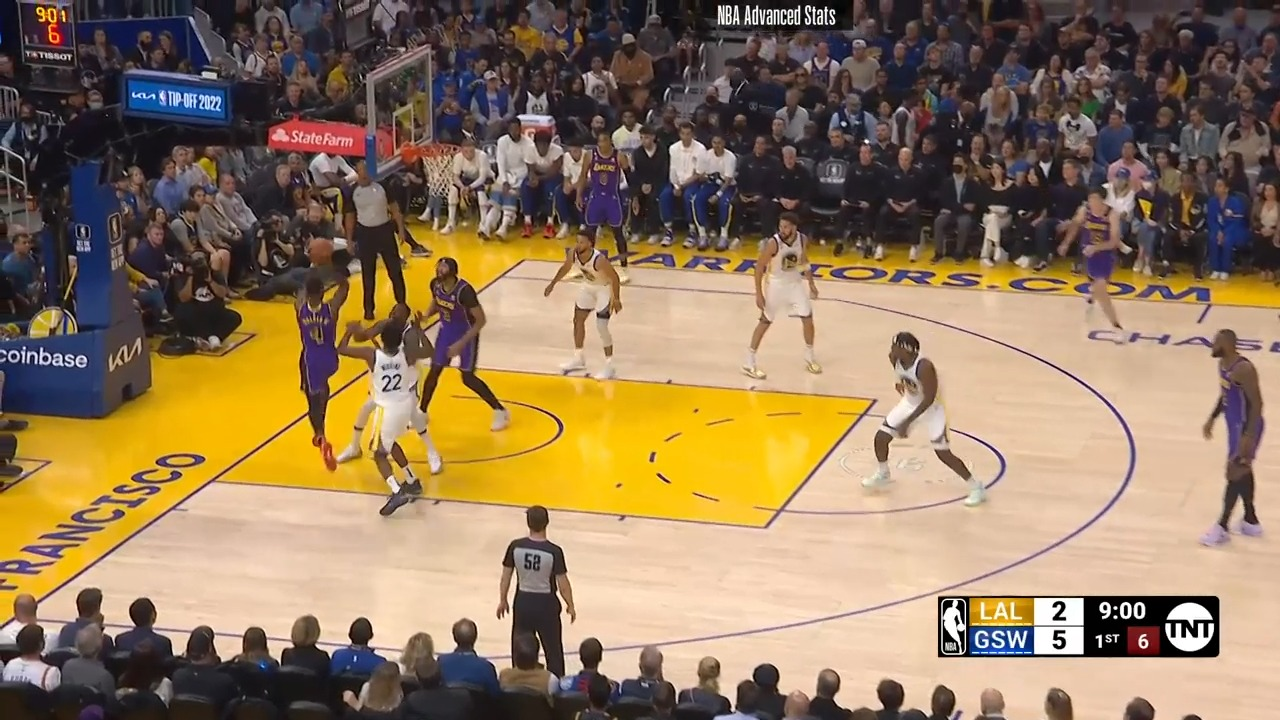net: (400, 139, 468, 198)
player: (851, 328, 985, 510), (1184, 325, 1273, 553), (415, 251, 507, 455), (353, 308, 440, 523), (737, 215, 823, 385), (1055, 186, 1146, 345), (290, 271, 359, 468), (542, 232, 630, 385), (569, 132, 633, 274)
referee: (498, 500, 584, 670), (347, 165, 420, 328)
